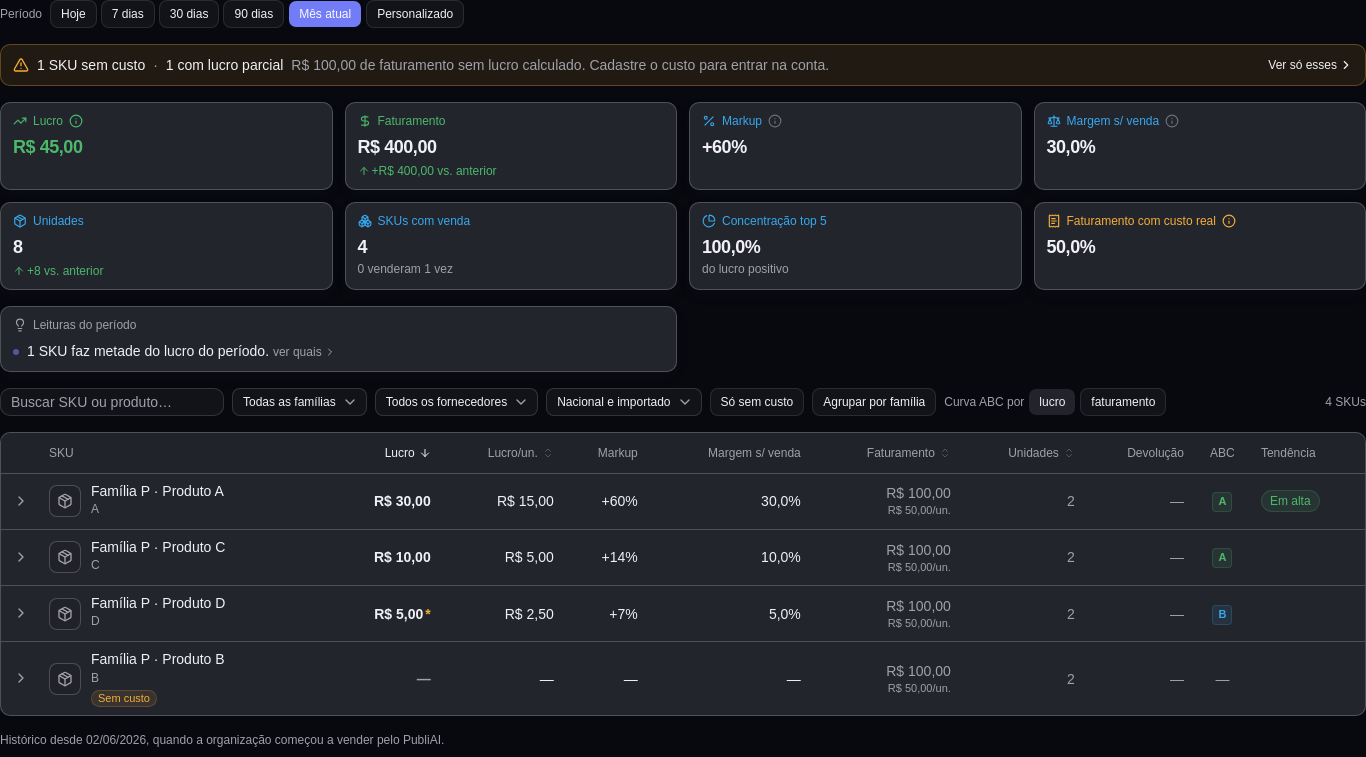
AbaVendasSku › abrir a conta de um filho não fecha a família
Step 1. Click the button "Agrupar por família" → (874, 402), box [812,388,936,416]
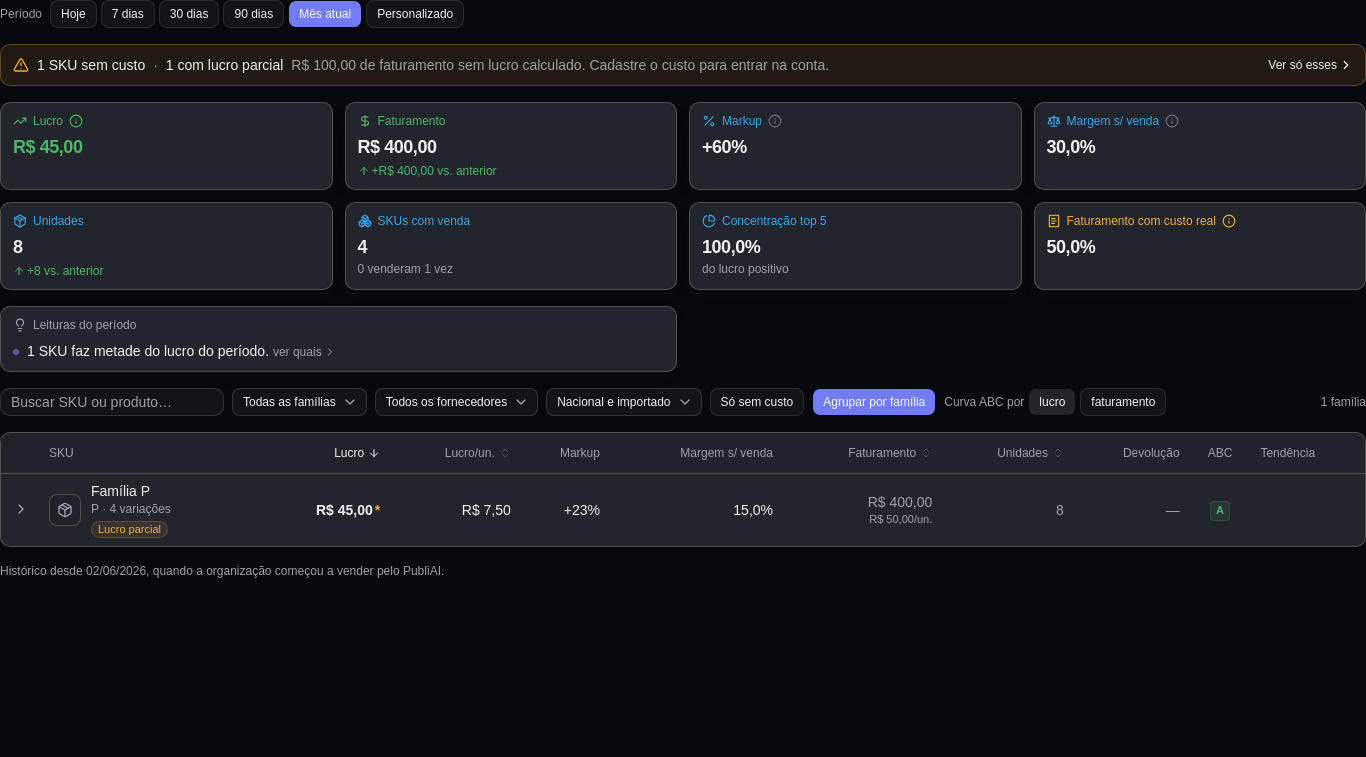
Step 2. Click the button named "Mostrar variações de Família P" → (21, 510), box [9,498,33,522]
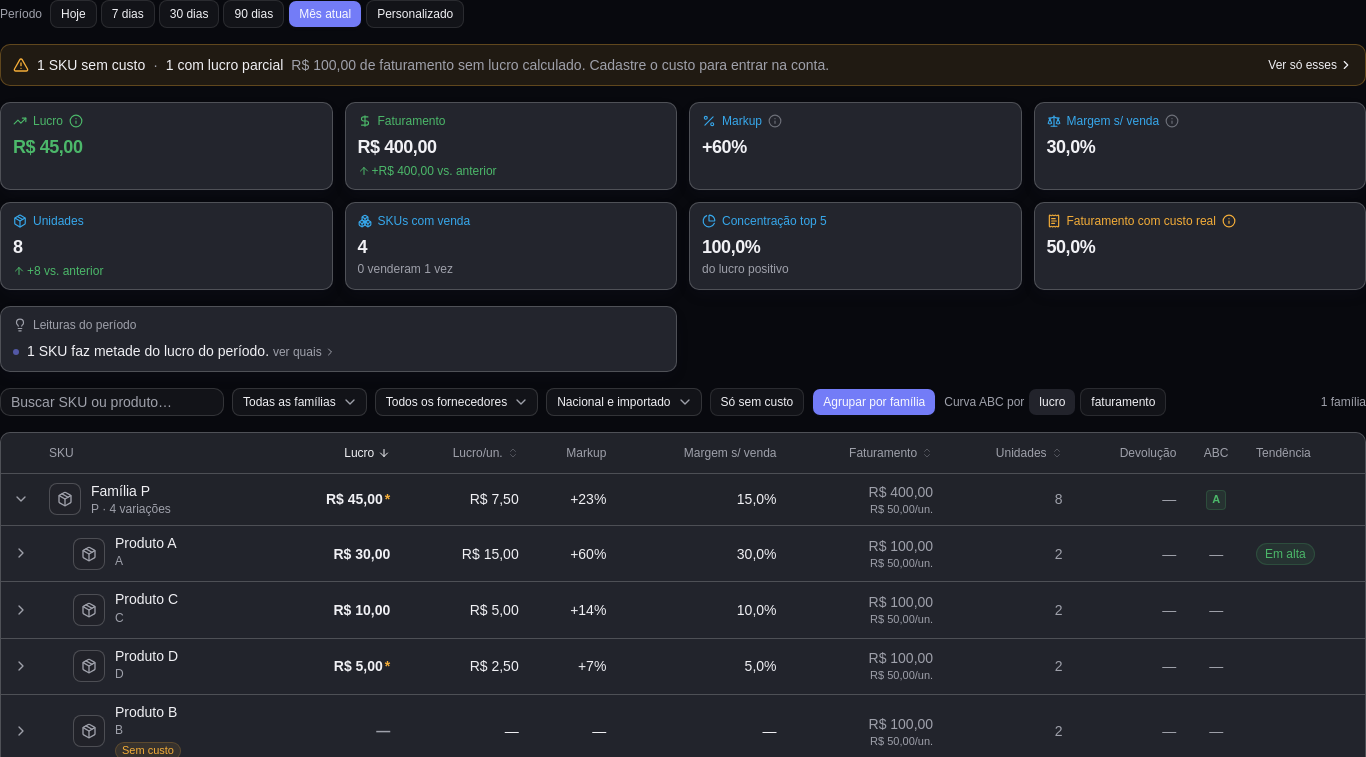
Step 3. Click the button named "Ver a conta de Produto A" → (21, 553), box [9,541,33,565]
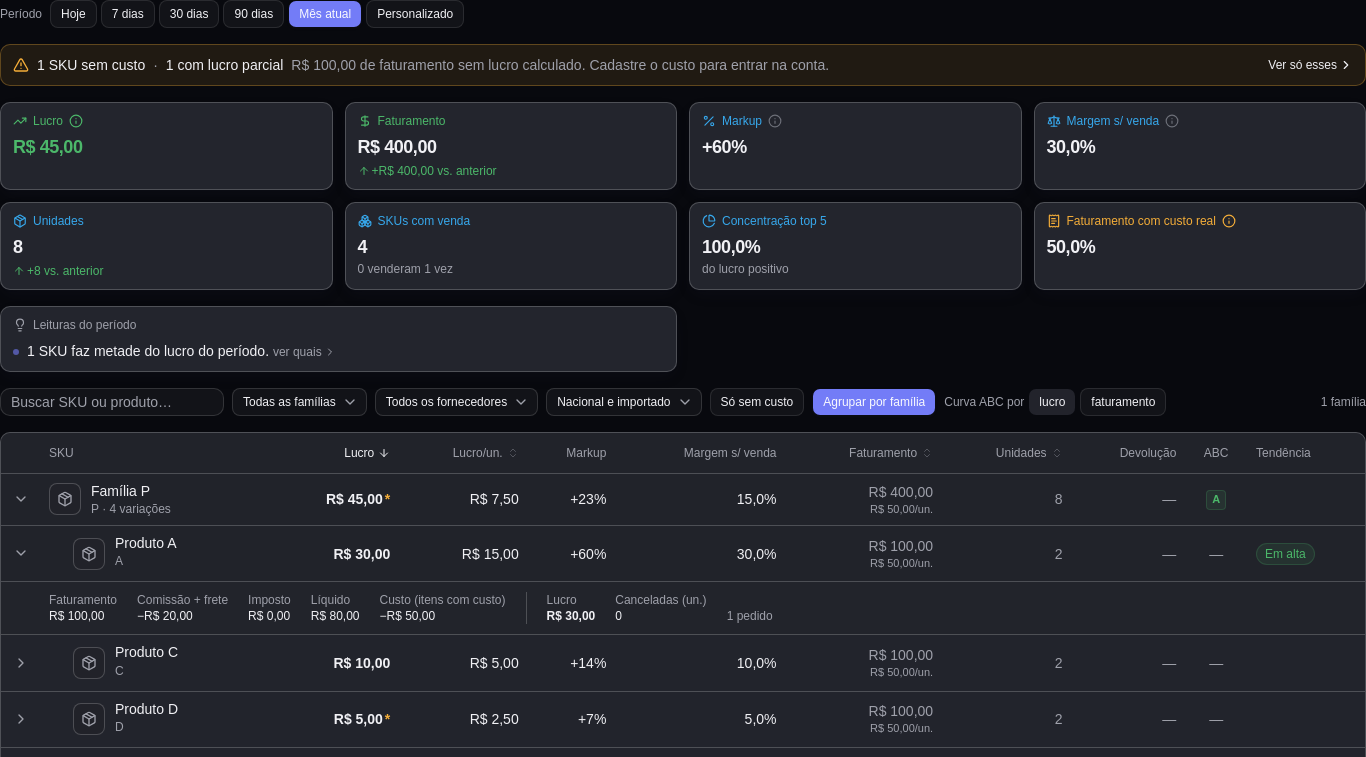
Now the text "Comissão + frete" is shown, box [137,592,228,608]
